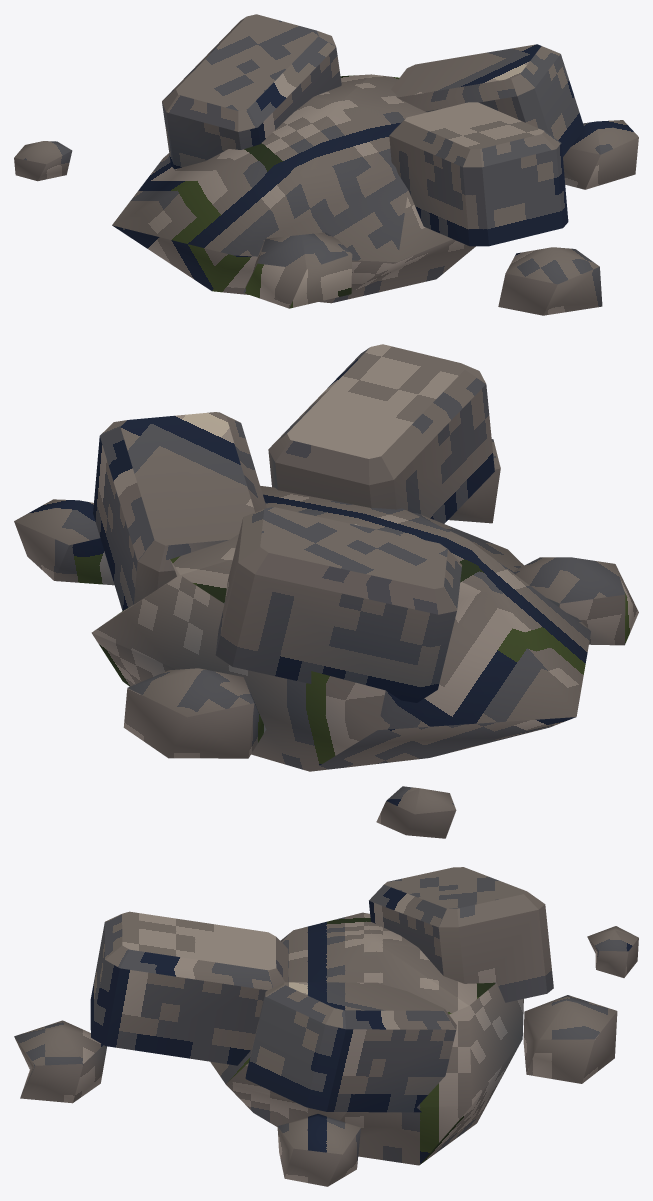
File: dgn.rubble.glb
3 renders of one model, top to bottom at view 1: azimuth 30°, elevation 25°; view 2: azimuth 150°, elevation 25°; view 3: azimuth 270°, elevation 25°, orthographic. The views are drawn at different scales.
Parts seen in each view (by area): view 1: kit_stones, kit_blocks; view 2: kit_blocks, kit_stones; view 3: kit_blocks, kit_stones.
Boxes of the visible parts, bbox=[...] form: kit_stones: bbox=[14, 74, 638, 315]; kit_blocks: bbox=[162, 14, 584, 246]; kit_blocks: bbox=[93, 344, 494, 702]; kit_stones: bbox=[14, 439, 638, 838]; kit_blocks: bbox=[90, 867, 553, 1112]; kit_stones: bbox=[14, 912, 638, 1186].
Size of the model in its own units: 1.94 by 0.7161 by 2.08.
2 materials, 2 textured.
